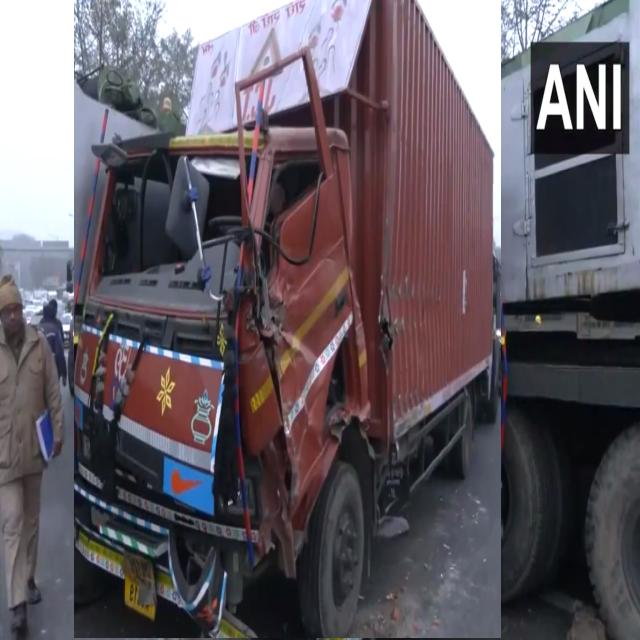truck: (74, 0, 501, 638)
